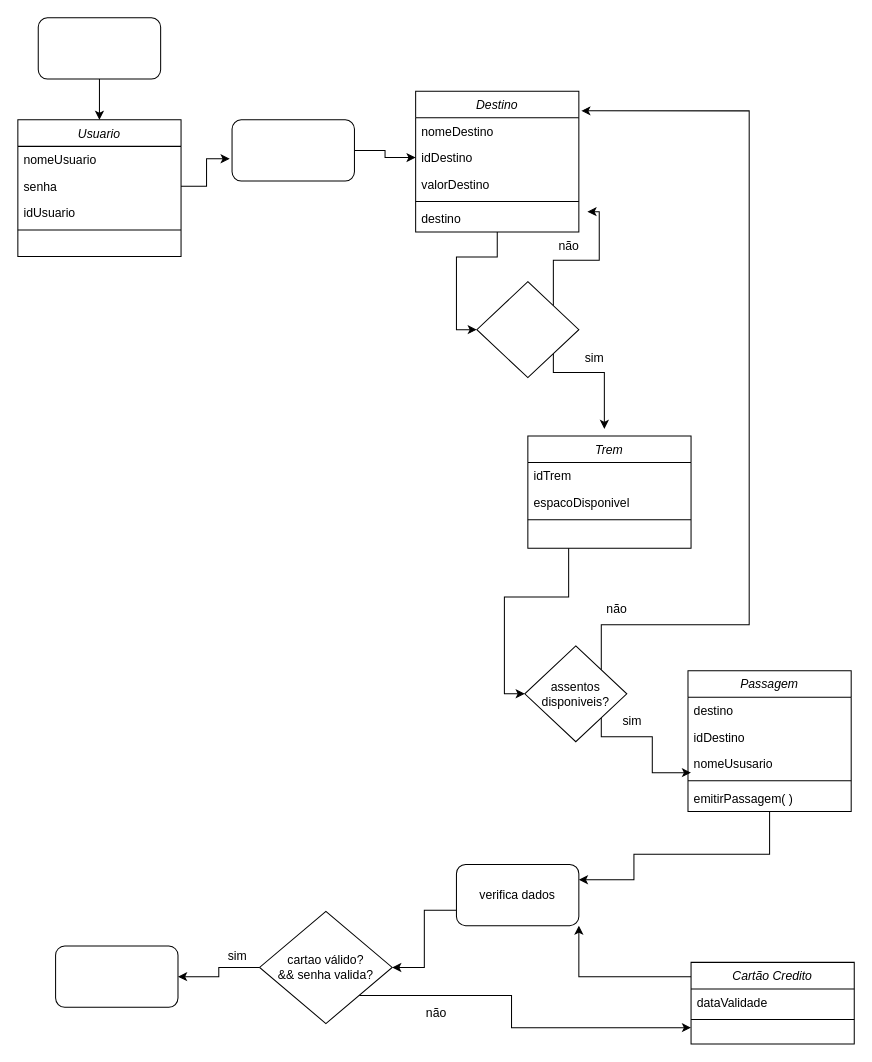
Some shapes in this 872 by 1062 pixel diagram are drawn without their labels. The centre of each missing label's shape, as x and y in pixels:
"destino válido?" goes at point 527,329.
"emitir passagem" goes at point 116,976.
"escolher destino" goes at point 292,150.
"vender" goes at point 99,48.
